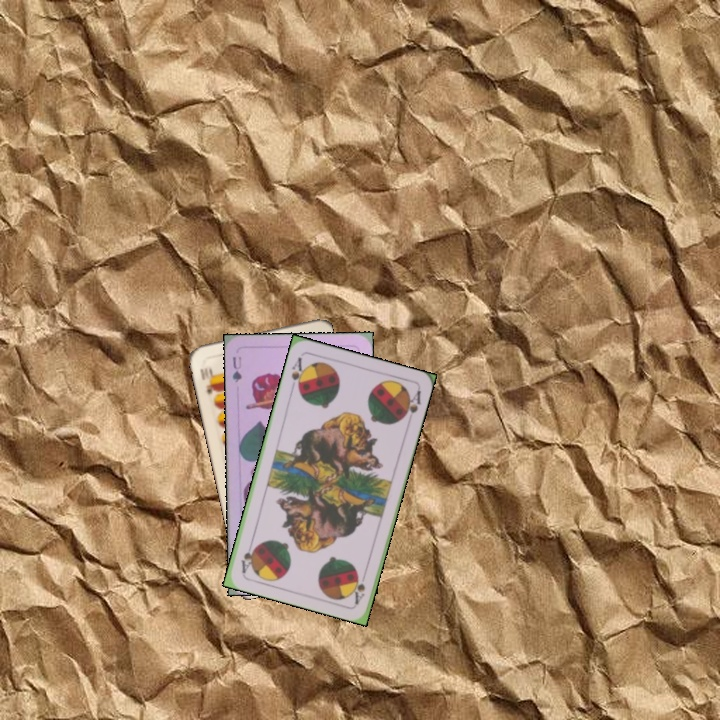E10: (196, 364, 218, 397)
GU: (228, 353, 244, 385)
SA: (287, 353, 308, 394), (350, 567, 369, 606)
